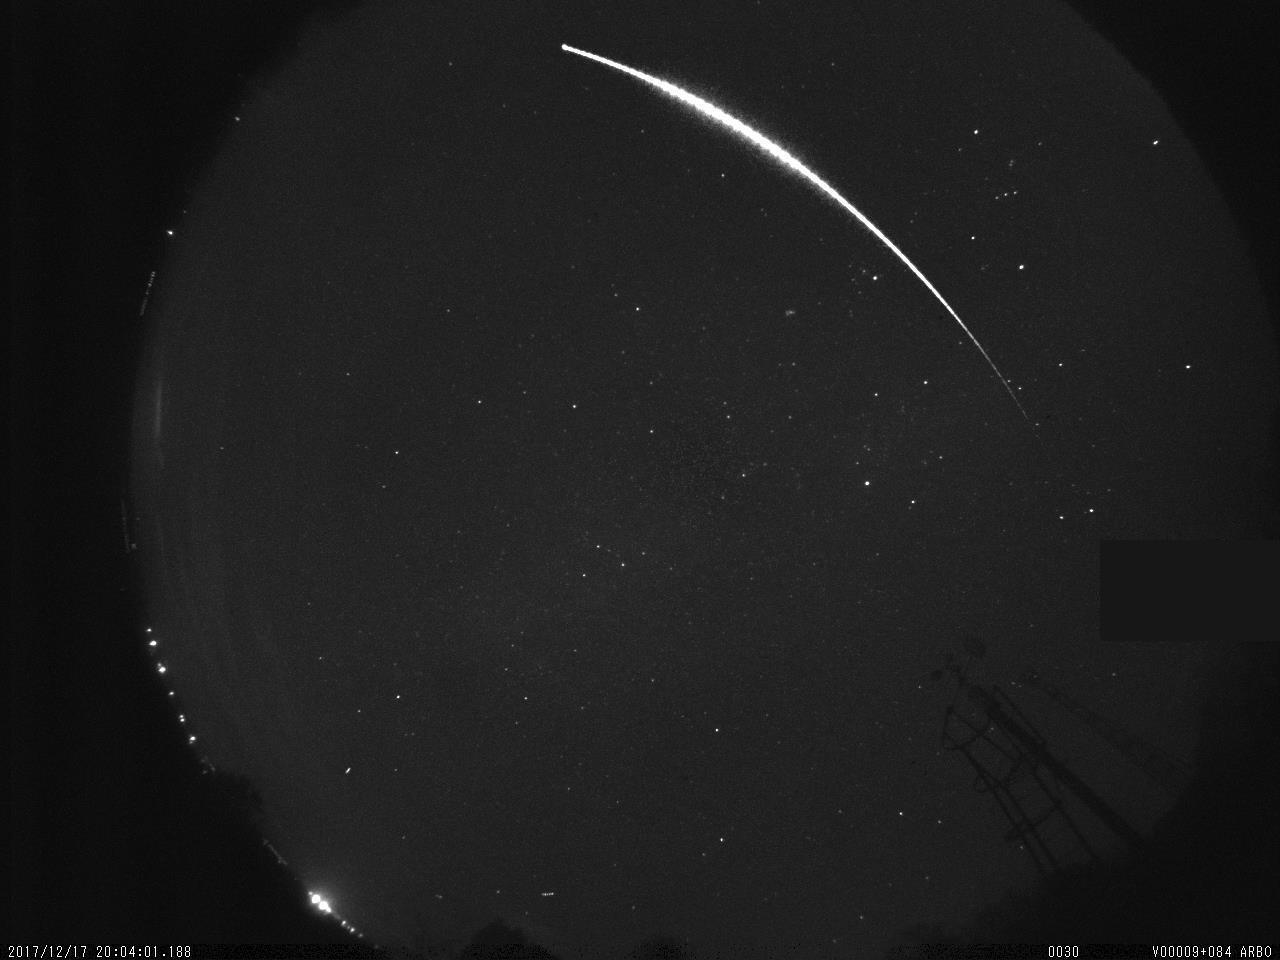meteor: (528, 26, 1038, 436)
